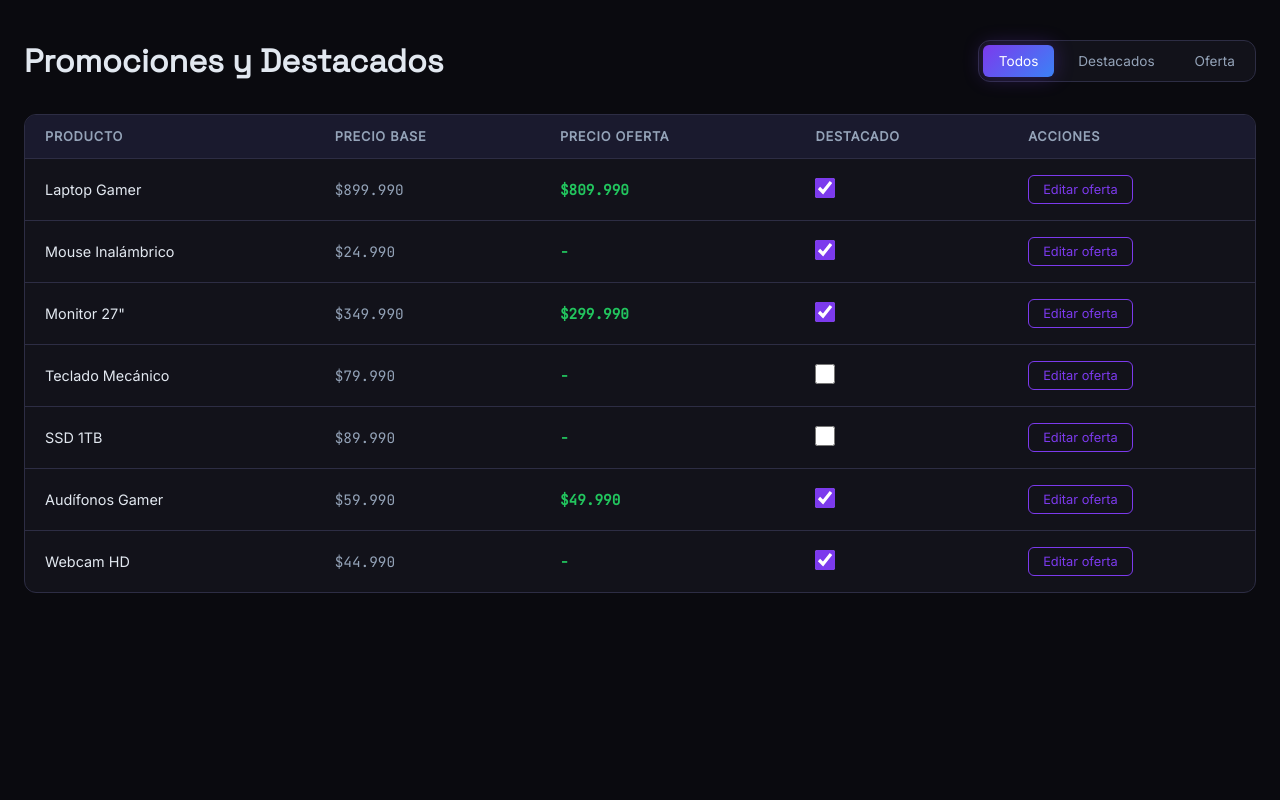
Scenario: HU-ADMIN-06 · Gestionar Promociones y Productos Destacados › CA3: guardar oferta válida actualiza el precio oferta del producto
Click the button with test id "btn-editar-oferta-1": (1080, 190) left=1028, top=175, right=1133, bottom=204
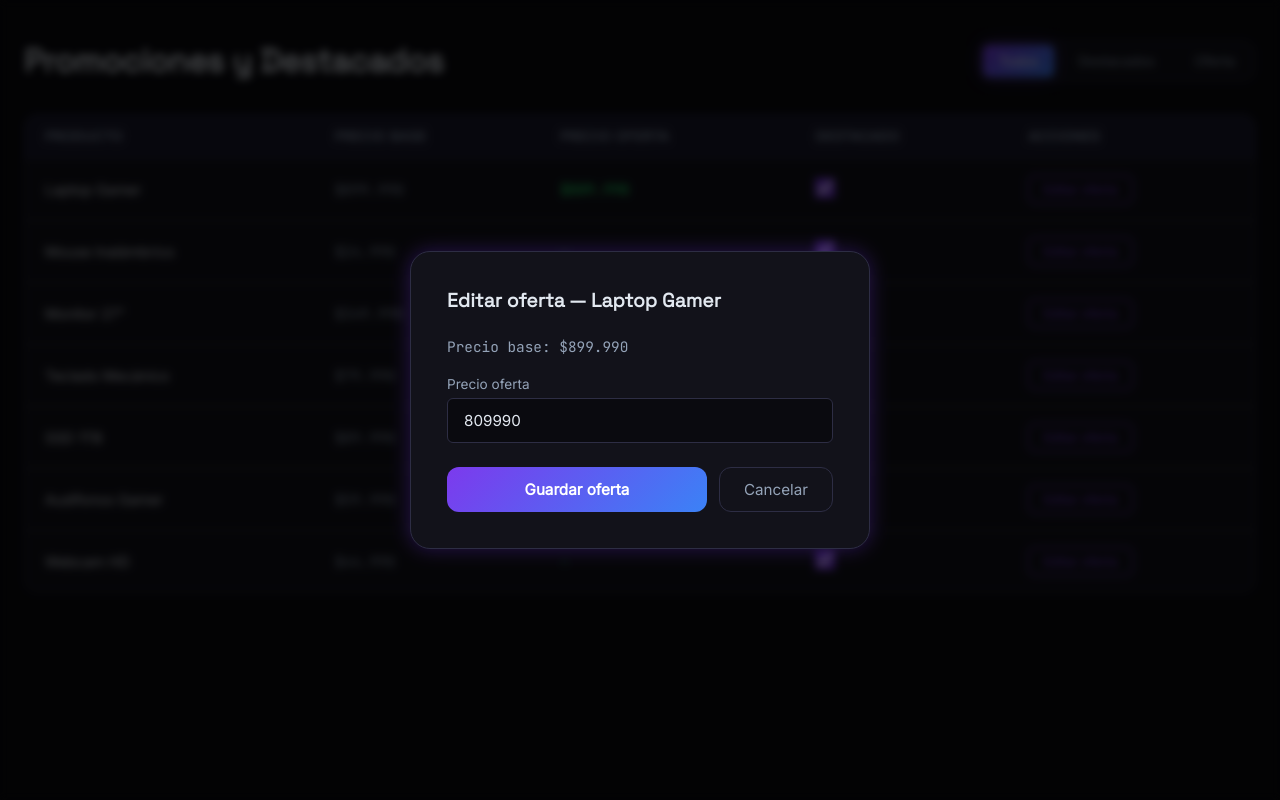
Replace the text in the number field with test id "input-precio-oferta" with "799990": (640, 420) left=447, top=398, right=833, bottom=443
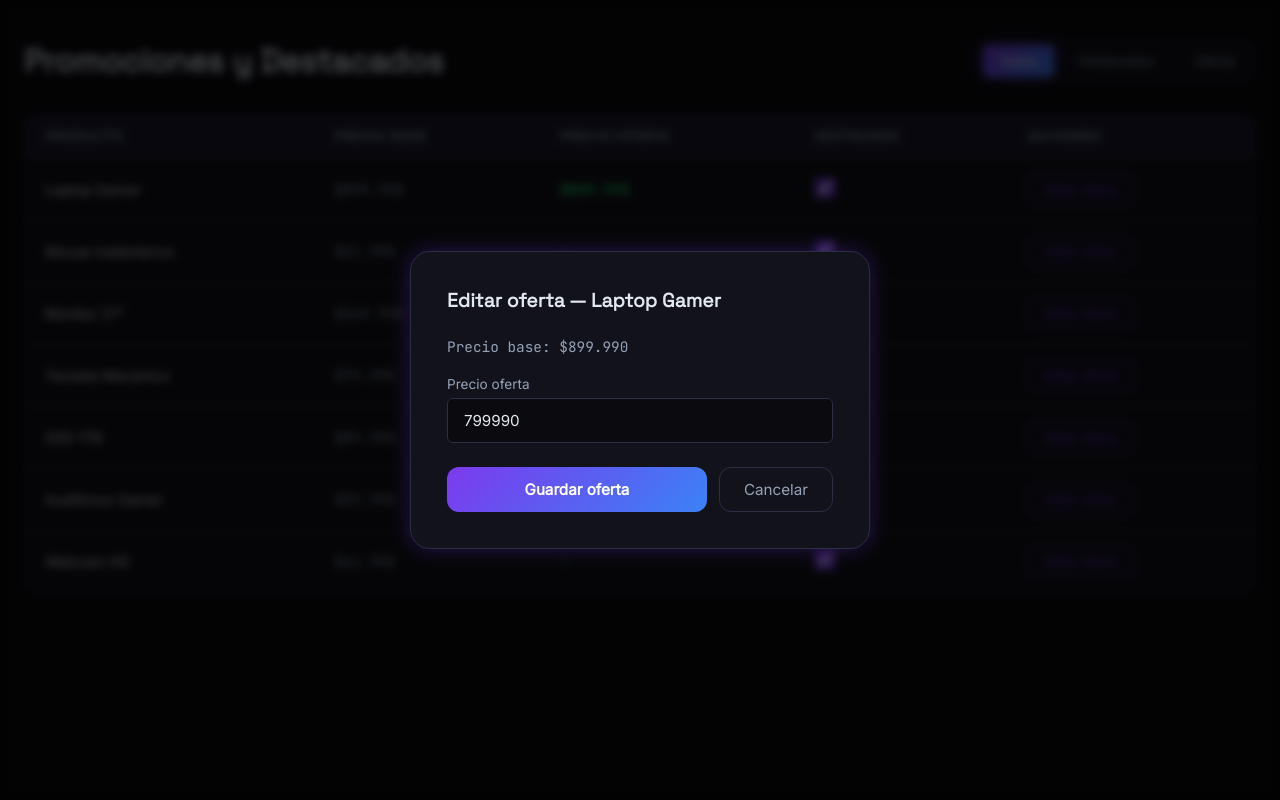
Click the button with test id "btn-guardar-oferta": (577, 490) left=447, top=467, right=707, bottom=512
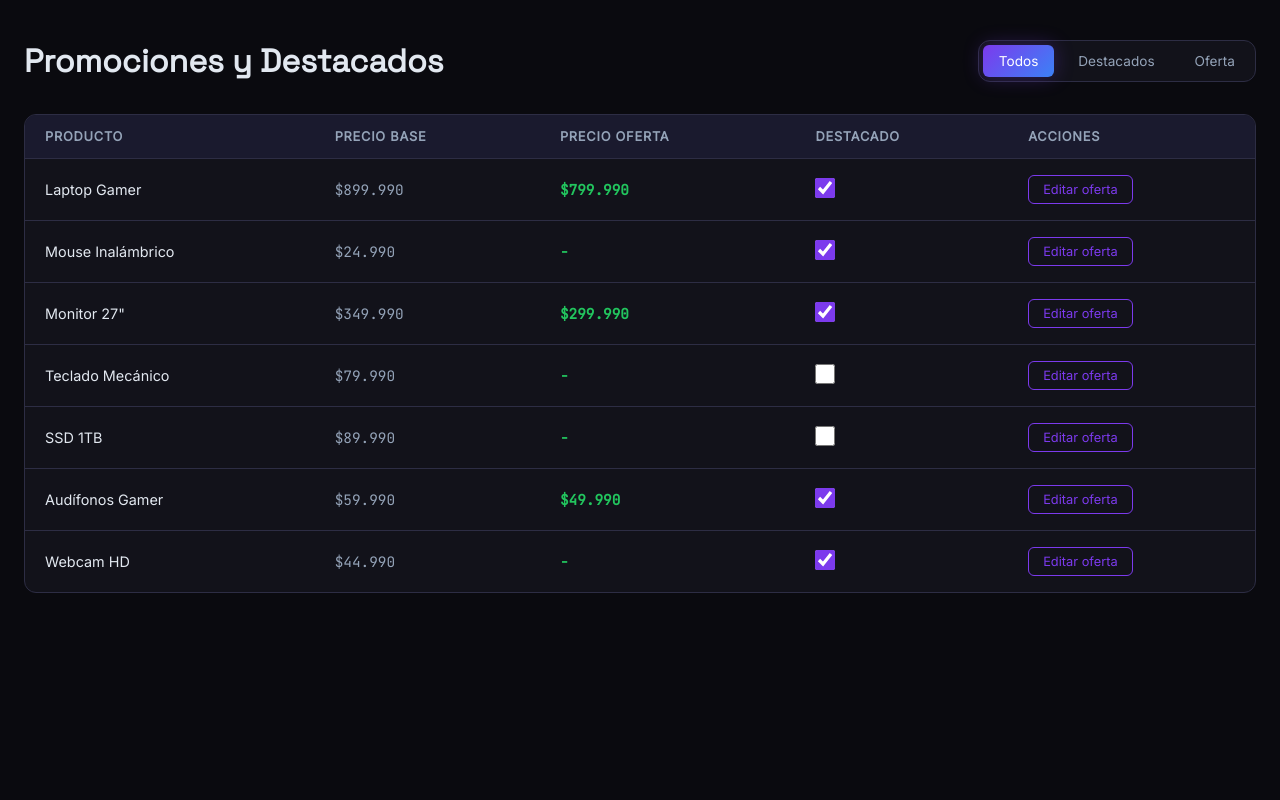
expect the element with test id "modal-oferta" is gone: met
expect the text with test id "precio-oferta-1" shows "799.990": met, box left=560, top=180, right=629, bottom=199
